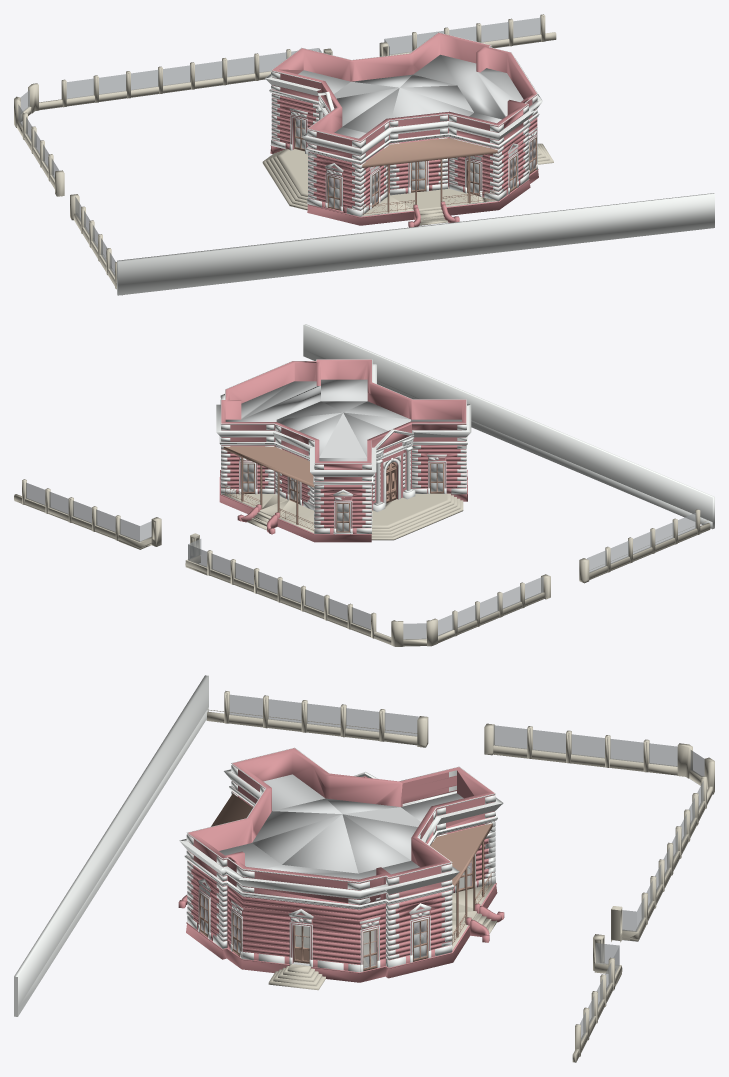
The model's file is hcd.glb.
3 views of the same model, one above another, from view 1: azimuth 30°, elevation 25°; view 2: azimuth 150°, elevation 25°; view 3: azimuth 270°, elevation 25° (orthographic). The views are drawn at different scales.
Visible parts, largest first — view 1: Honorable_Concejo_Deliberante; view 2: Honorable_Concejo_Deliberante; view 3: Honorable_Concejo_Deliberante.
Boxes of the visible parts, x1,y1,x2,y2 form: Honorable_Concejo_Deliberante: [14, 14, 714, 295]; Honorable_Concejo_Deliberante: [14, 324, 714, 646]; Honorable_Concejo_Deliberante: [14, 675, 714, 1062].
Bounding box in the file's own units: 60.13 × 8.66 × 51.56.
